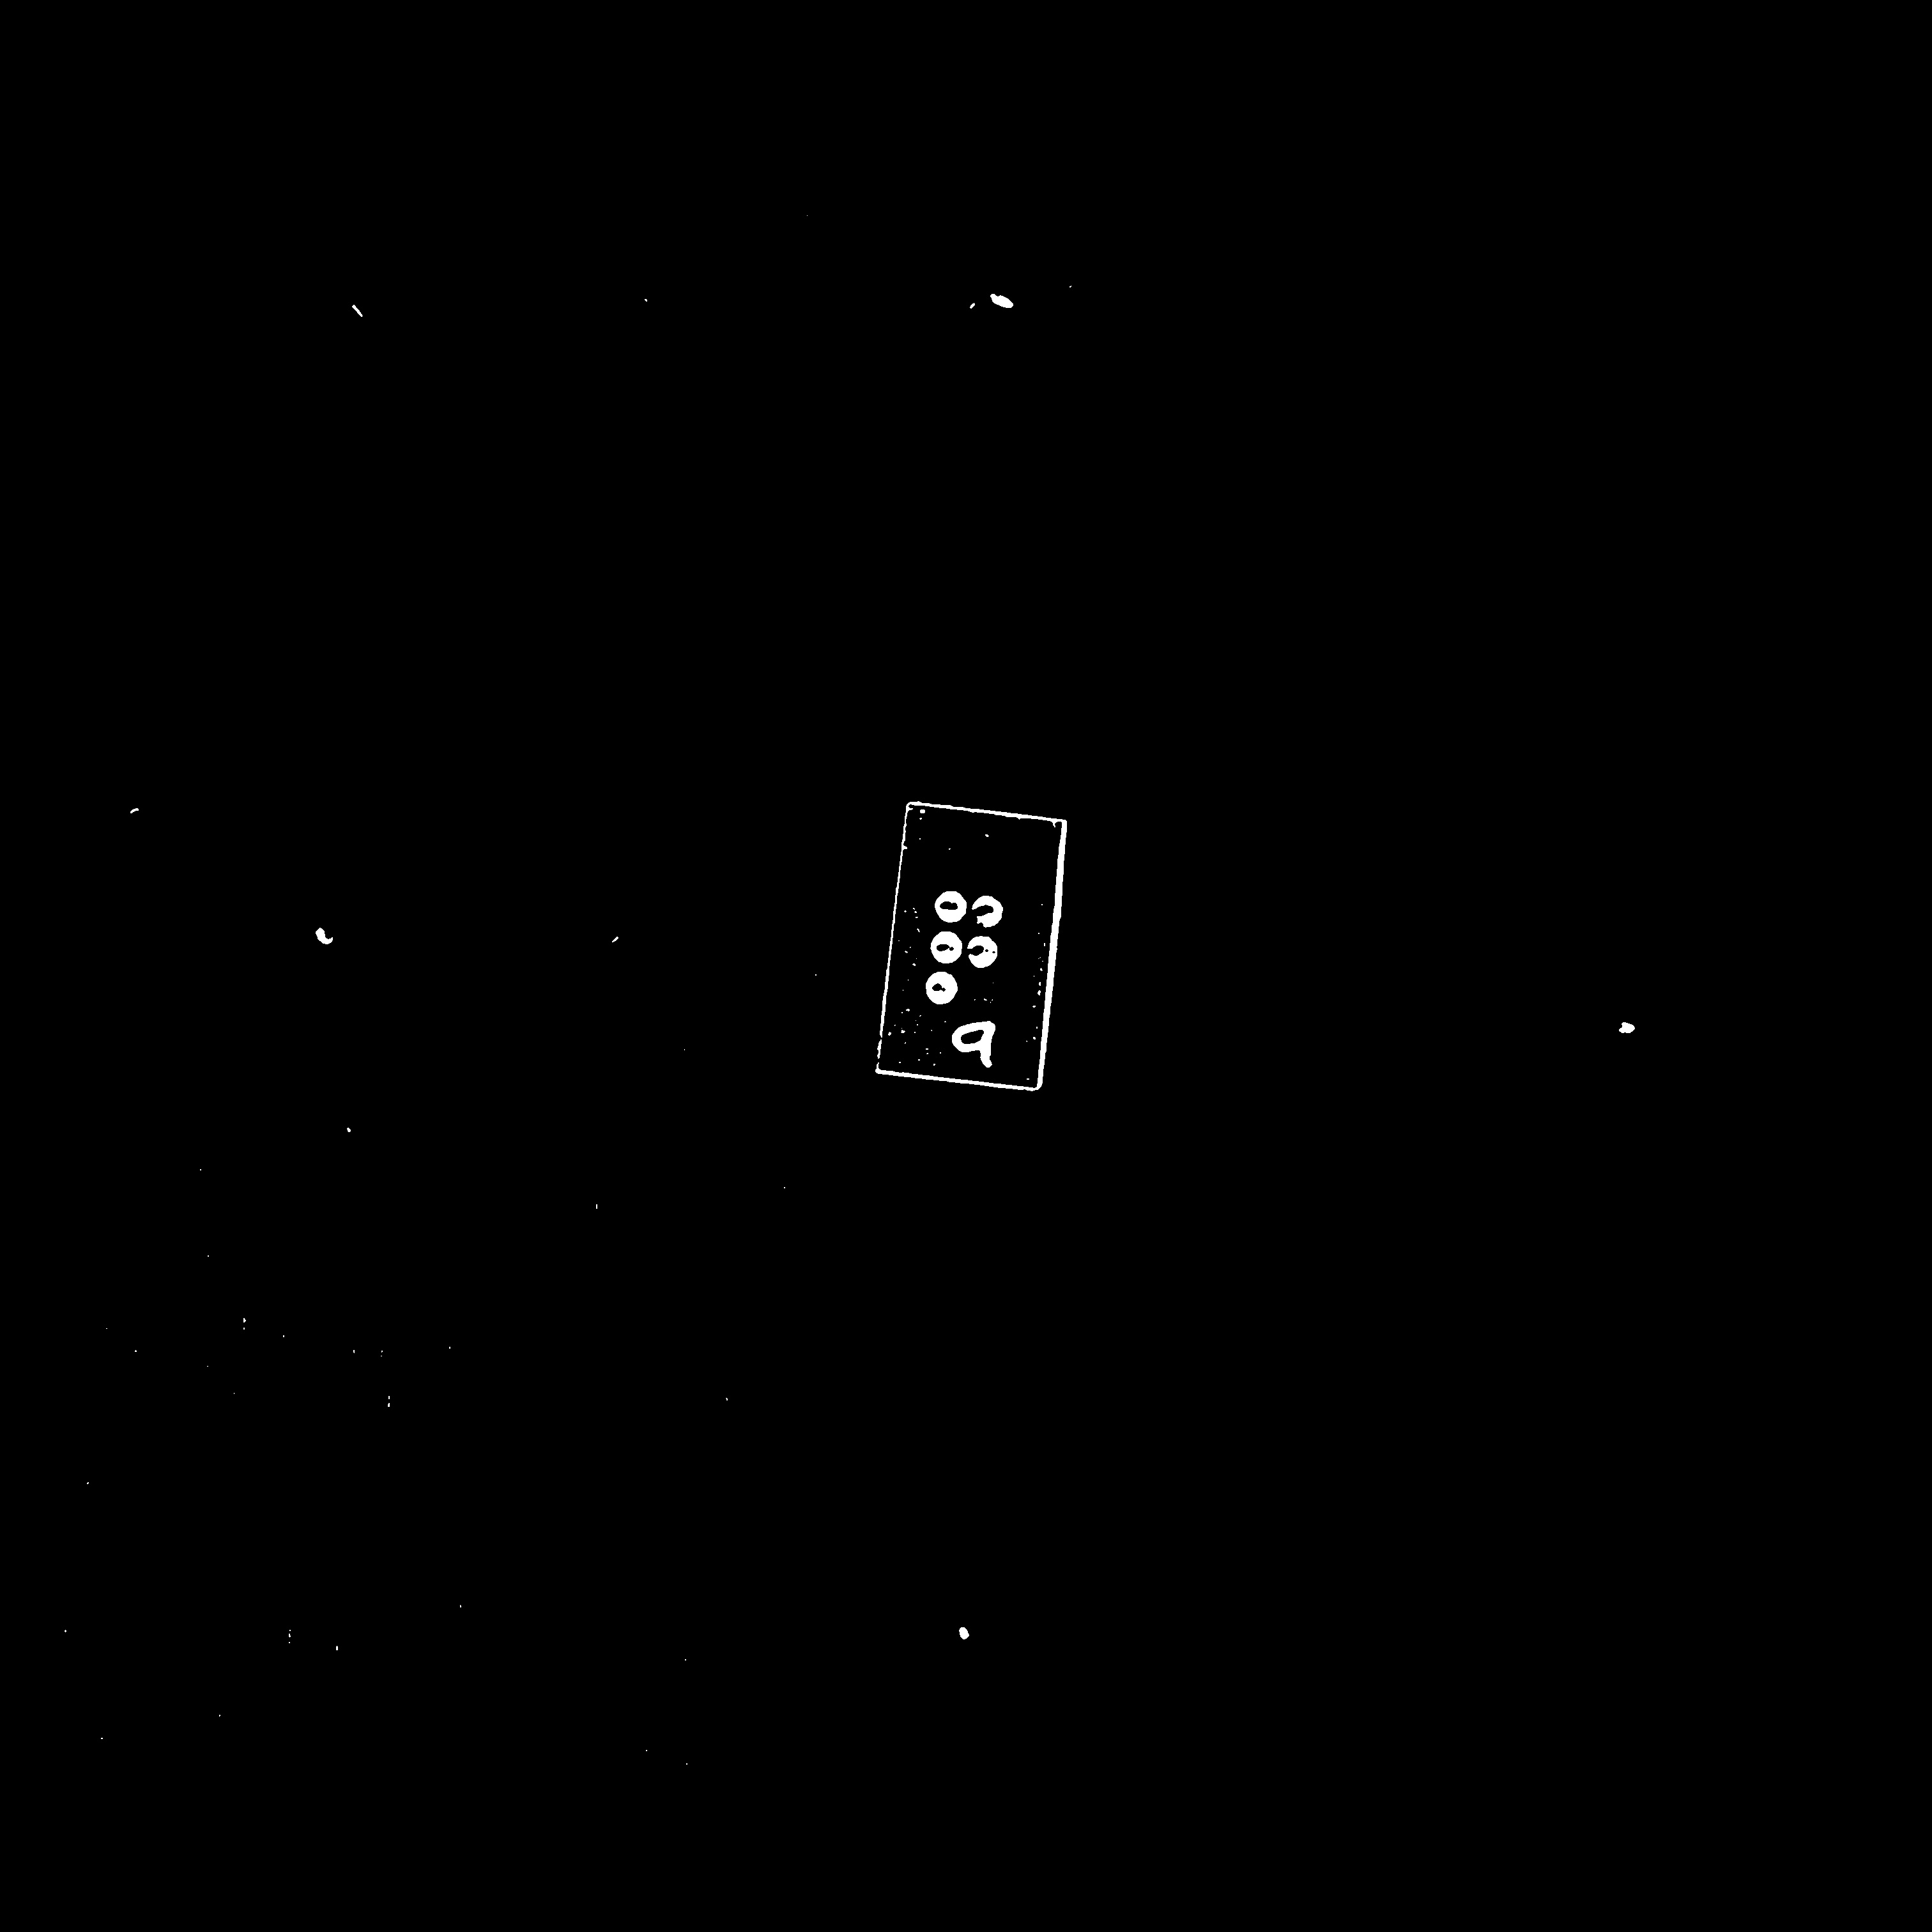q: (921, 878, 1015, 1022)
